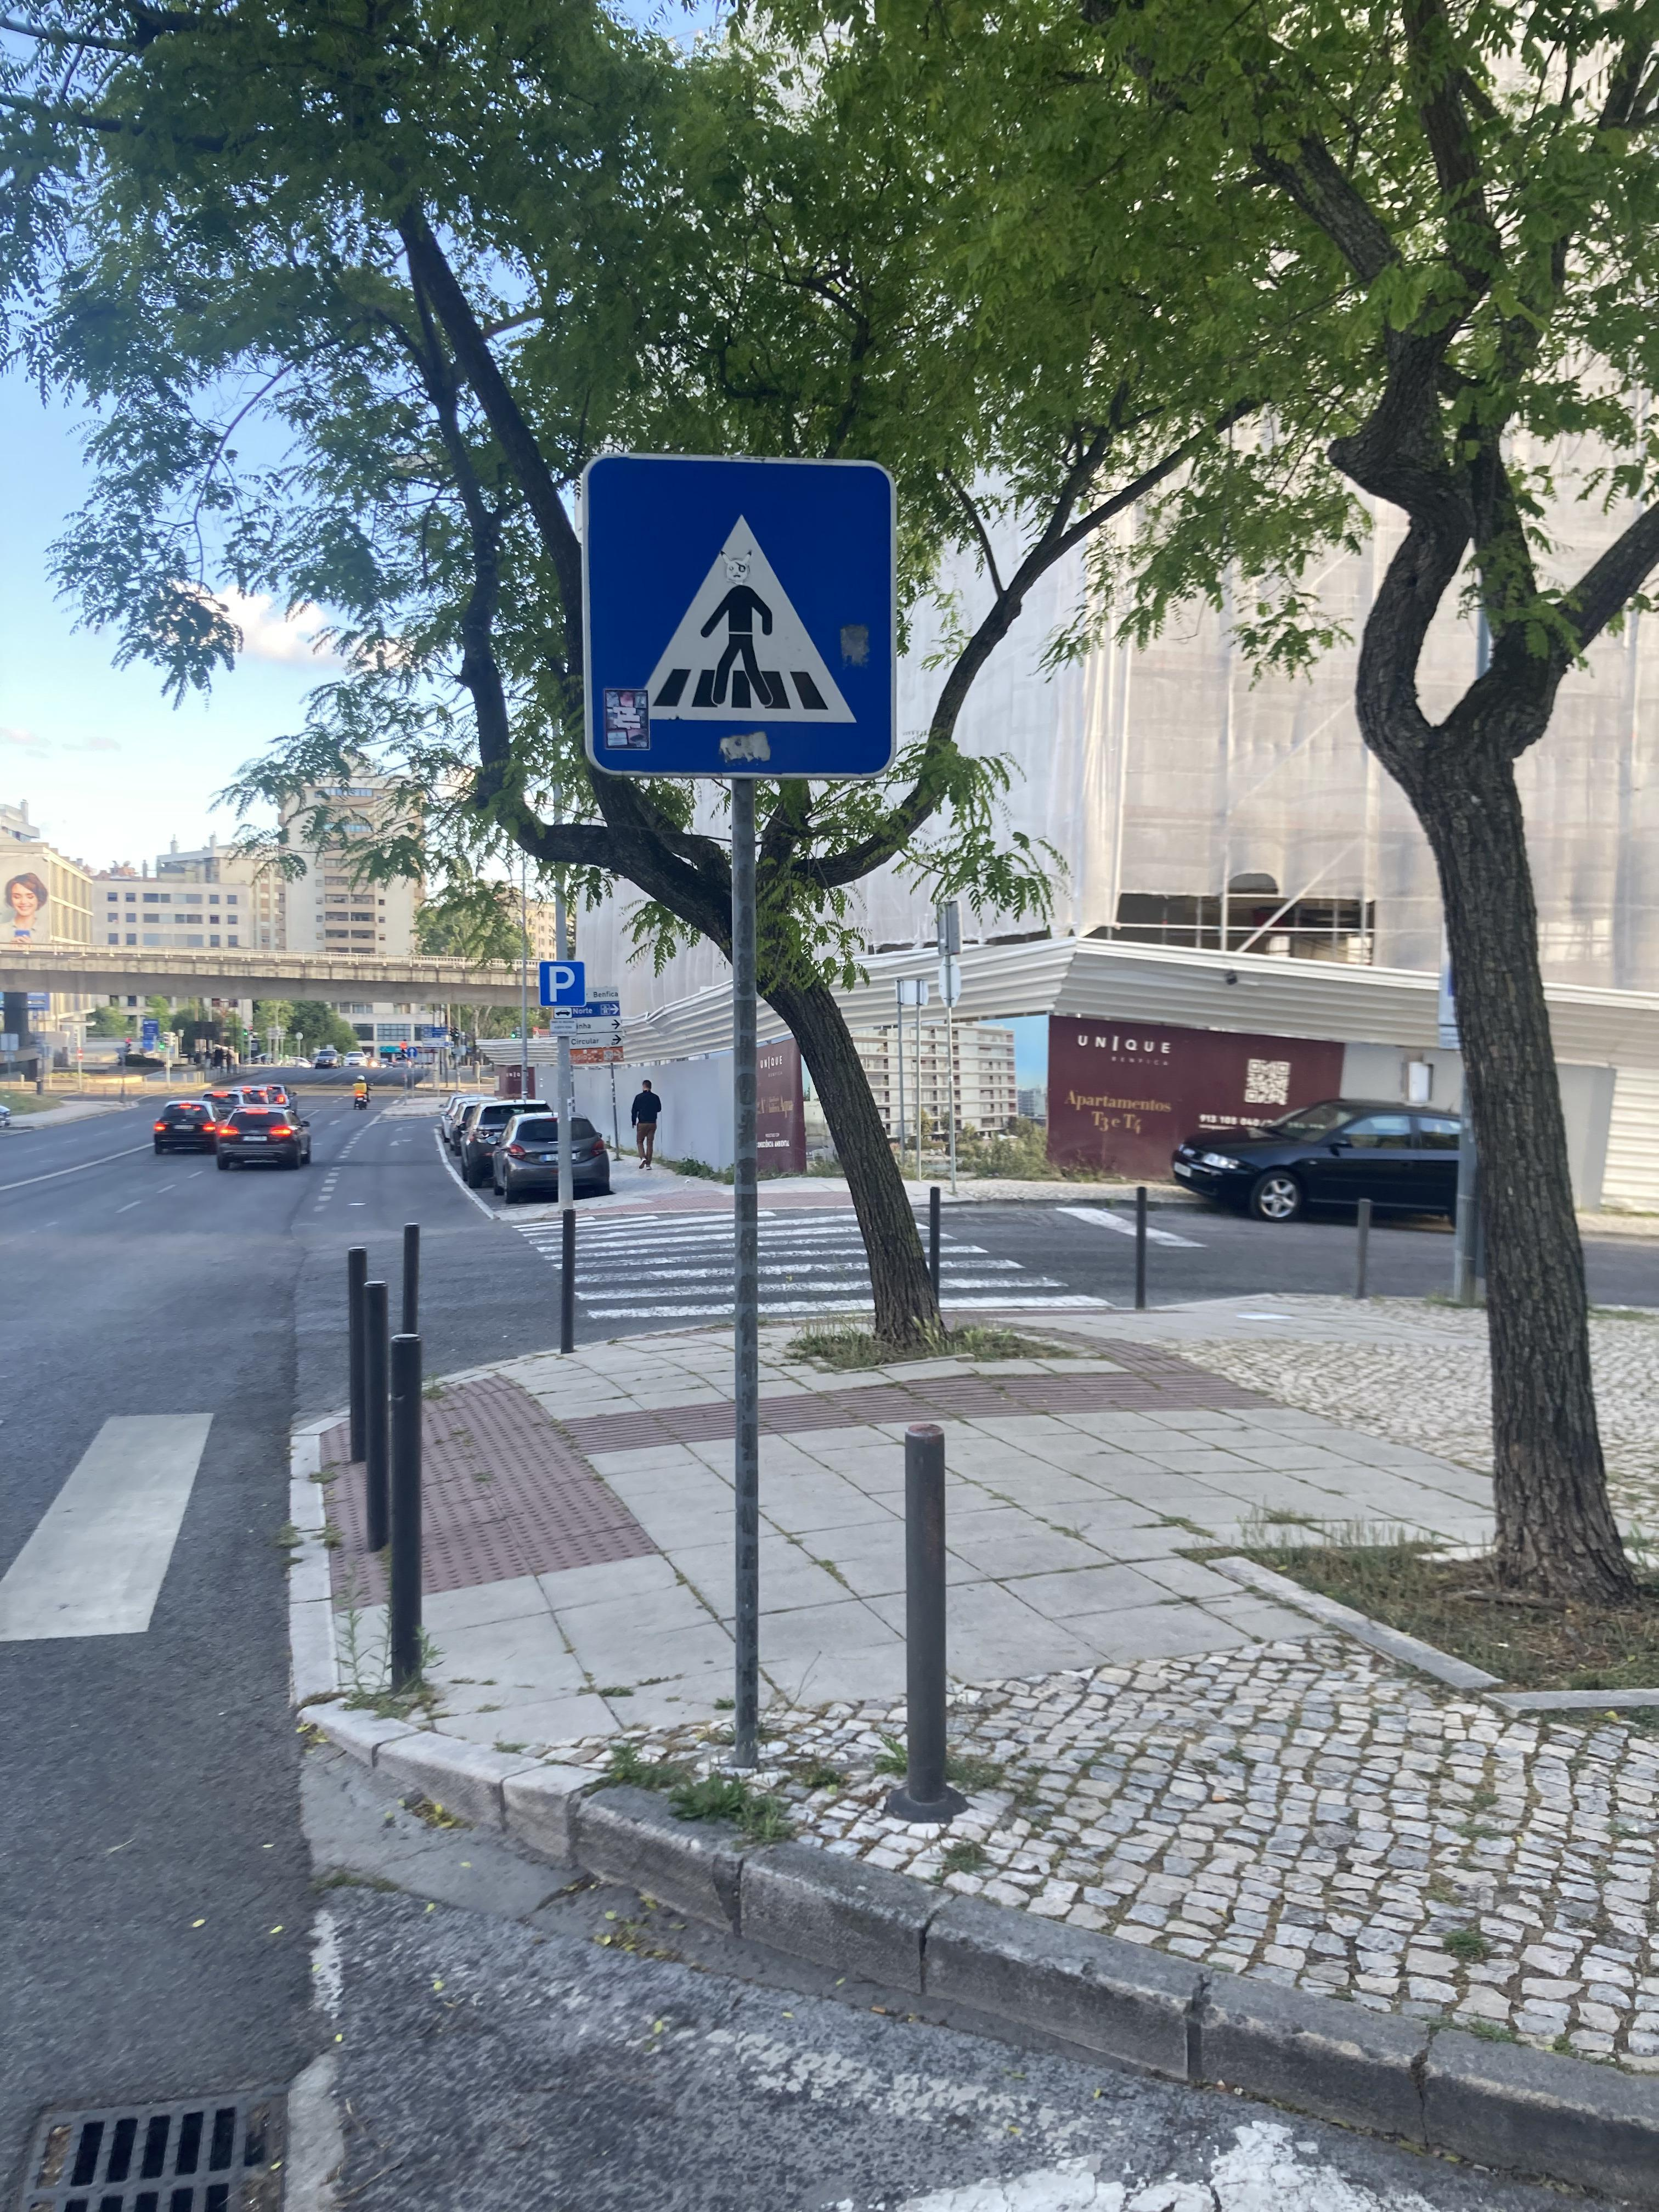Passagem para peoes: (570, 439, 899, 784)
